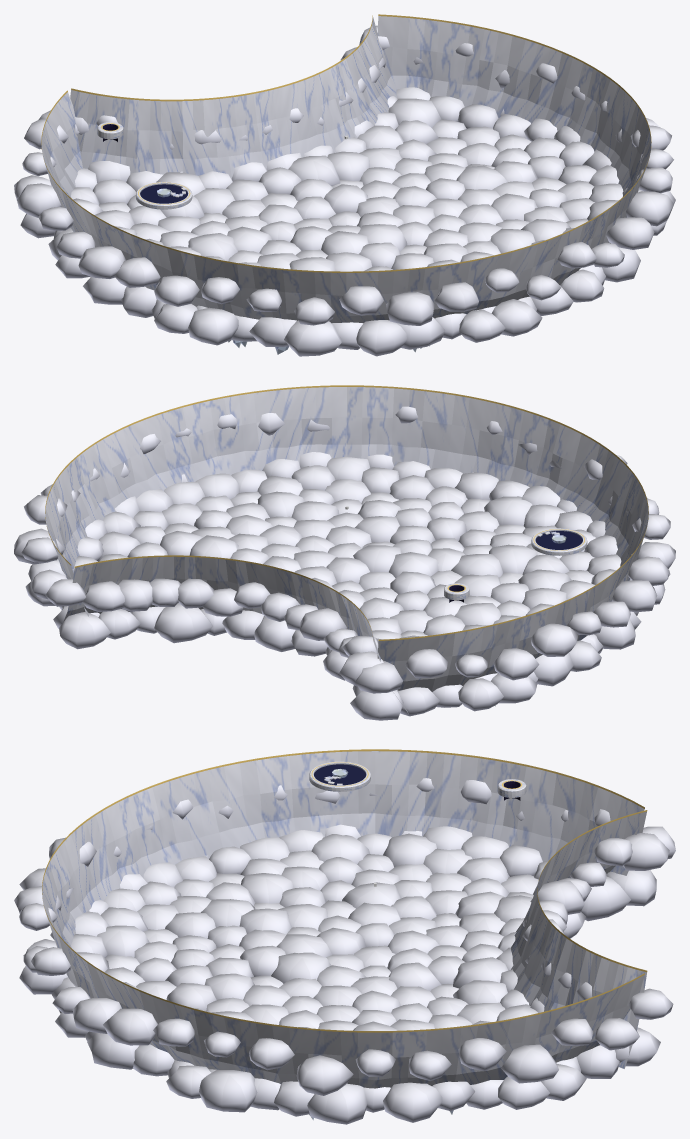
Rendered from MoonlitIsle_Island.fbx.
3 views of the same model, one above another, from view 1: azimuth 30°, elevation 25°; view 2: azimuth 150°, elevation 25°; view 3: azimuth 270°, elevation 25° (orthographic). The views are drawn at different scales.
Parts seen in each view (by area): view 1: MI_CloudBank, MI_CliffSkirt, MI_MirrorRim, MI_MirrorPool; view 2: MI_CloudBank, MI_CliffSkirt, MI_MirrorRim, MI_MirrorPool; view 3: MI_CloudBank, MI_CliffSkirt, MI_MirrorRim, MI_MirrorPool.
Part boxes in pixels (left/top/right/bottom): MI_CloudBank: left=14, top=25, right=675, bottom=356; MI_CliffSkirt: left=41, top=14, right=651, bottom=323; MI_MirrorRim: left=136, top=182, right=192, bottom=209; MI_MirrorPool: left=140, top=184, right=187, bottom=203; MI_CloudBank: left=14, top=406, right=675, bottom=720; MI_CliffSkirt: left=45, top=385, right=648, bottom=713; MI_MirrorRim: left=531, top=528, right=587, bottom=555; MI_MirrorPool: left=535, top=531, right=582, bottom=549; MI_CloudBank: left=14, top=778, right=675, bottom=1124; MI_CliffSkirt: left=42, top=749, right=647, bottom=1088; MI_MirrorRim: left=309, top=761, right=370, bottom=791; MI_MirrorPool: left=314, top=764, right=366, bottom=785.
Size of the model in its own units: 278 by 66.59 by 251.
Materials: 1 (1 with a texture image).
